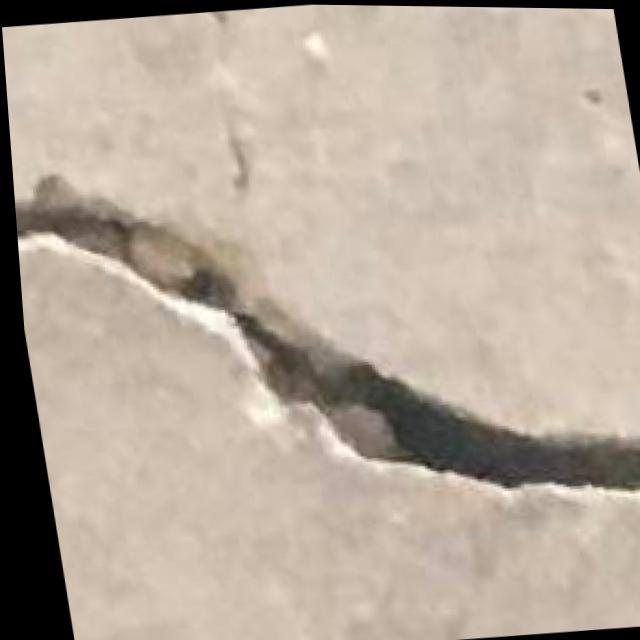Crack: (6, 100, 640, 602)
